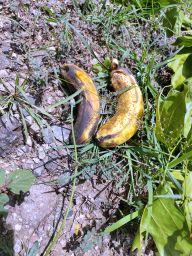banana: (91, 57, 145, 147), (54, 60, 103, 149)
